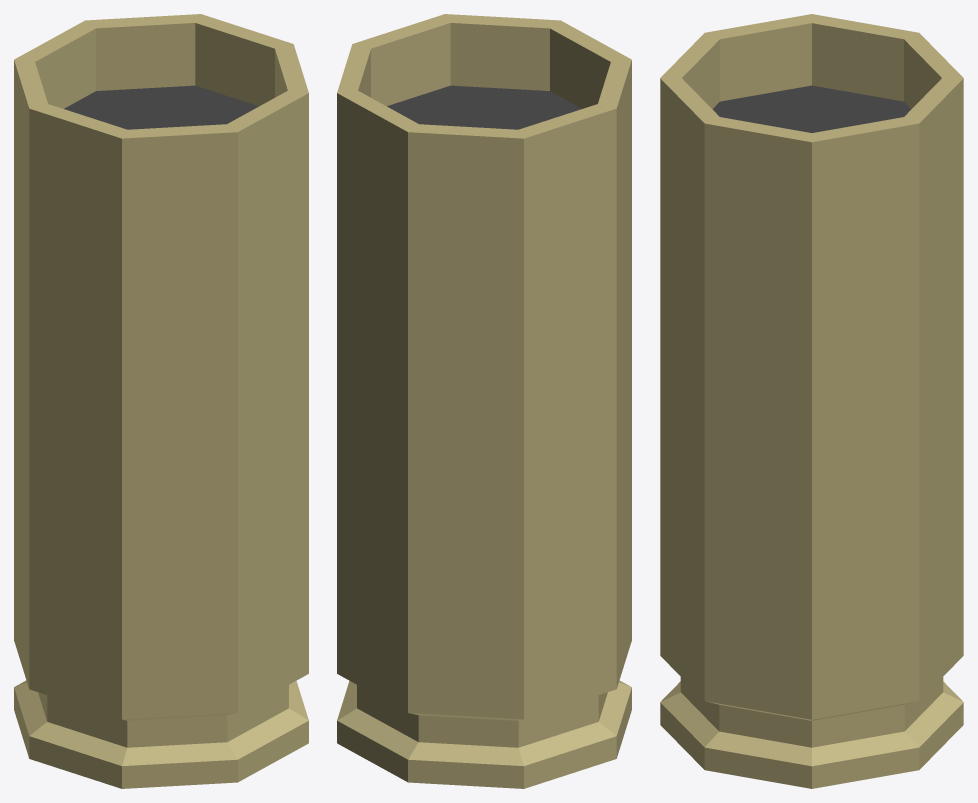
Rendered from CRTE-45ACP.fbx.
3 renders of one model, left to right at view 1: azimuth 30°, elevation 25°; view 2: azimuth 150°, elevation 25°; view 3: azimuth 270°, elevation 25°, orthographic.
Parts seen in each view (by area): view 1: Cylinder.028; view 2: Cylinder.028; view 3: Cylinder.028.
Part boxes in pixels (x1,y1,x2,y2): Cylinder.028: [14, 14, 308, 788]; Cylinder.028: [337, 14, 631, 788]; Cylinder.028: [660, 14, 963, 788].
Size of the model in its own units: 25.74 by 60.49 by 25.74.
